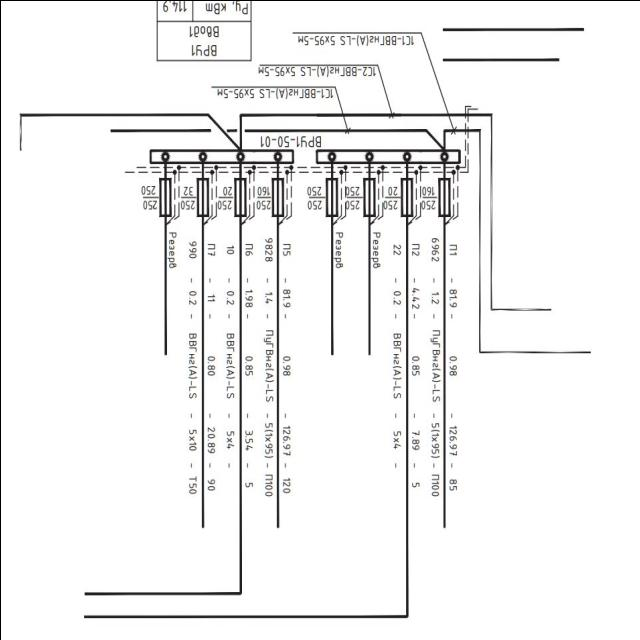-: (258, 133, 322, 149), (253, 182, 270, 210), (180, 184, 197, 211), (216, 183, 233, 210), (141, 183, 158, 210), (420, 185, 436, 212), (344, 183, 360, 210), (308, 183, 324, 210), (384, 184, 399, 211)
FU: (269, 176, 283, 218), (194, 178, 208, 220), (324, 178, 338, 220), (398, 177, 412, 219), (437, 176, 451, 218), (158, 176, 172, 218), (362, 178, 376, 220), (232, 176, 246, 218)
